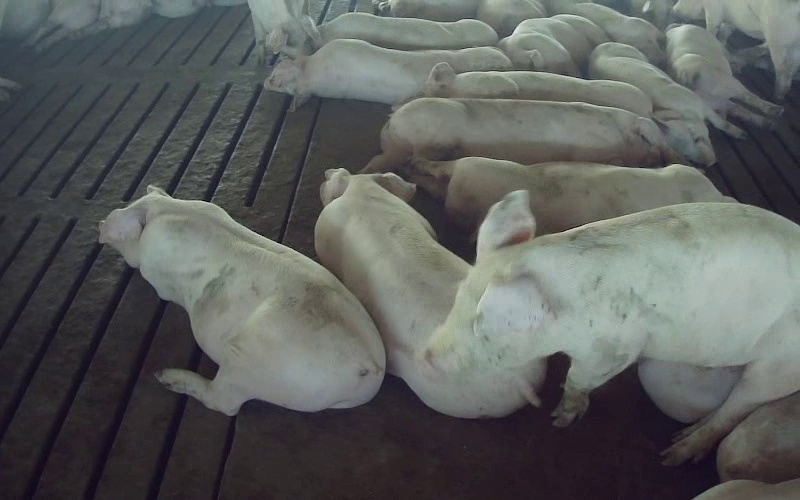pig: (421, 193, 799, 463), (100, 186, 385, 414), (315, 169, 545, 416), (404, 157, 735, 234), (362, 98, 673, 170), (589, 42, 743, 165), (264, 39, 511, 106), (673, 0, 799, 98), (422, 63, 651, 116), (544, 0, 664, 67), (498, 14, 608, 76), (318, 12, 497, 50), (248, 0, 321, 63)
